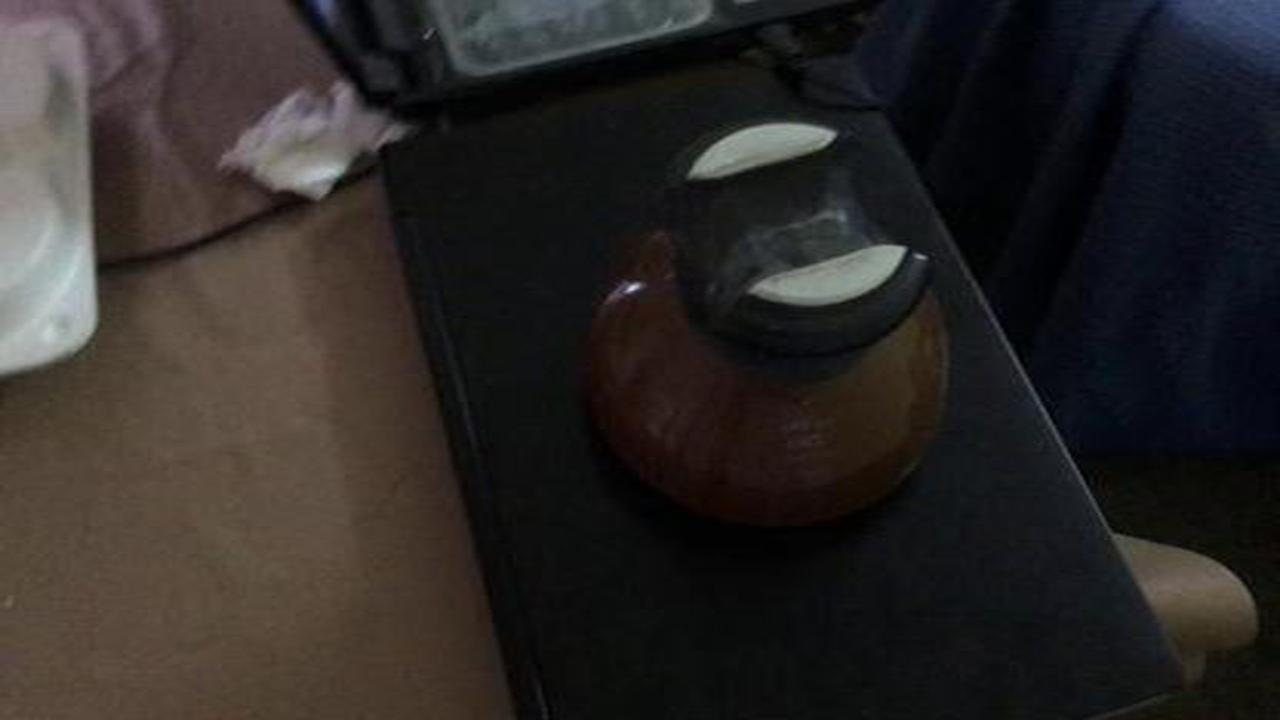insulator_pin: (533, 107, 1025, 549)
